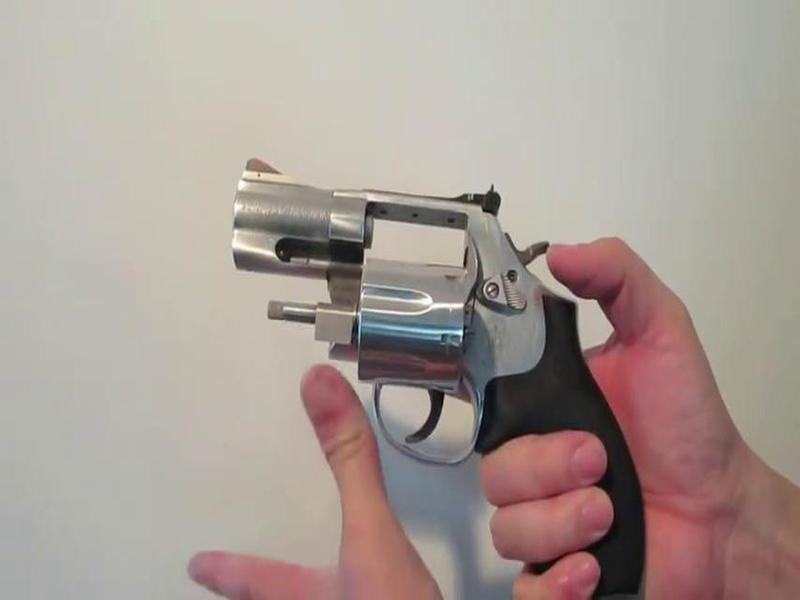Revolver: (213, 149, 666, 600)
